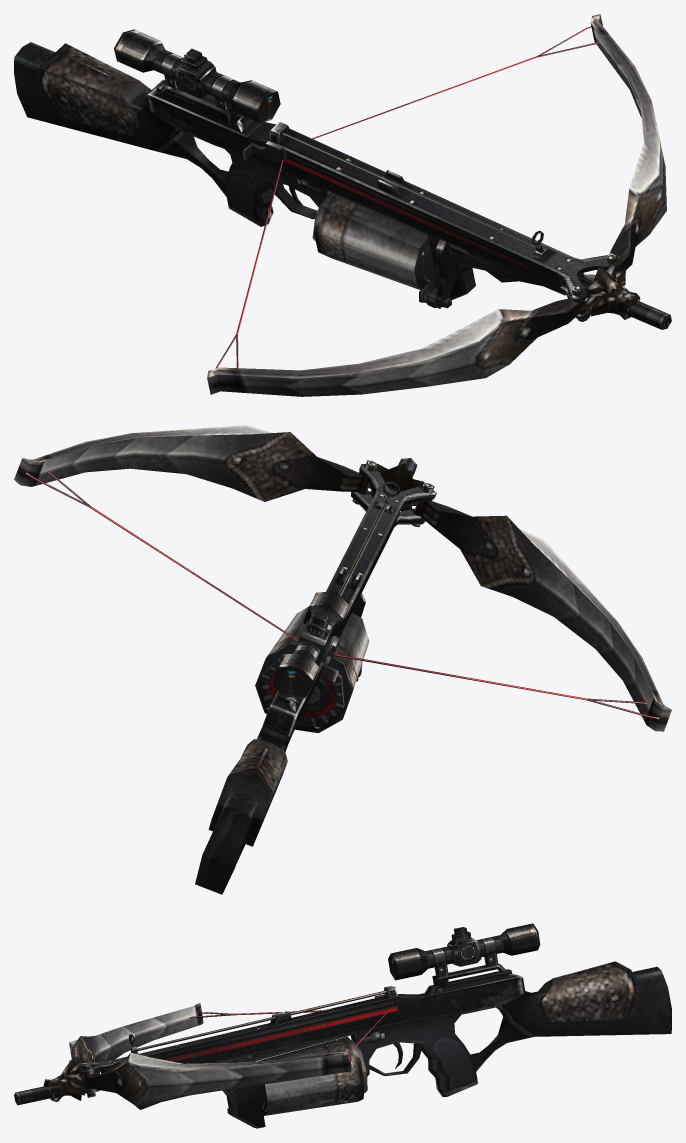
The picture shows the model from 3 angles, top to bottom: view 1: azimuth 30°, elevation 25°; view 2: azimuth 150°, elevation 25°; view 3: azimuth 270°, elevation 25°; orthographic projection. The views are drawn at different scales.
Parts seen in each view (by area): view 1: w_ref.smd; view 2: w_ref.smd; view 3: w_ref.smd.
Part boxes in pixels (left/top/right/bottom): w_ref.smd: left=14, top=14, right=671, bottom=396; w_ref.smd: left=14, top=425, right=671, bottom=894; w_ref.smd: left=14, top=923, right=671, bottom=1128.
Bounding box in the file's own units: 21.45 × 8.11 × 30.76.
